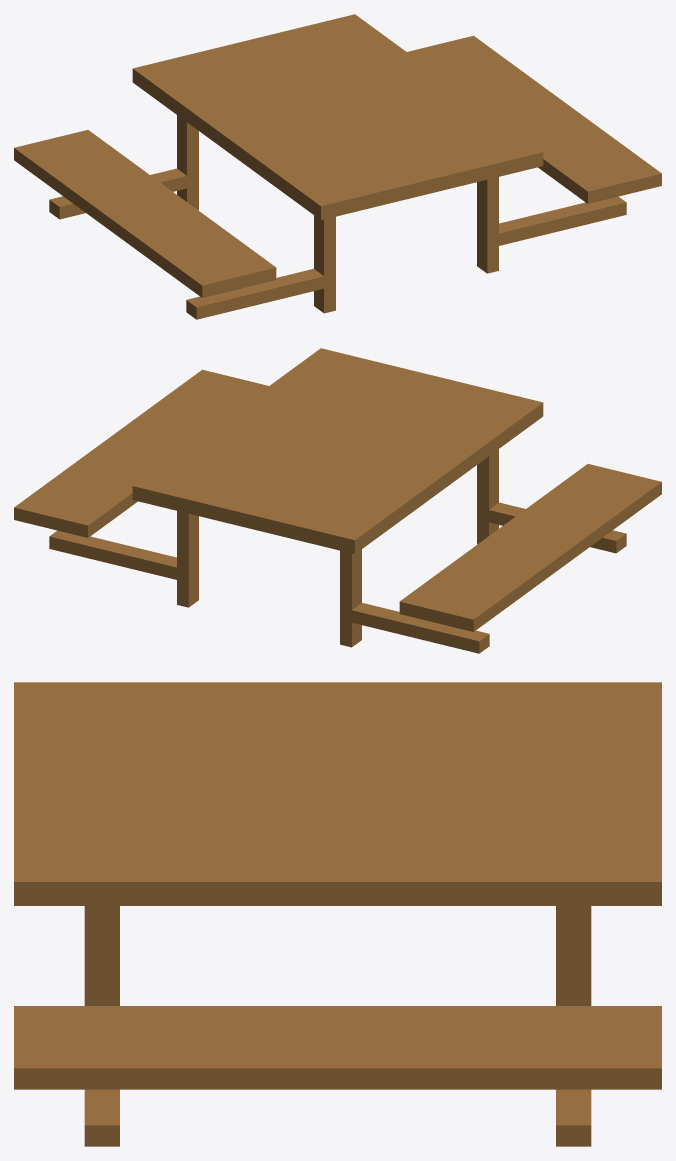
Rendered from PRP_PicnicTable.fbx.
3 views of the same model, one above another, from view 1: azimuth 30°, elevation 25°; view 2: azimuth 150°, elevation 25°; view 3: azimuth 270°, elevation 25° (orthographic). The views are drawn at different scales.
Parts seen in each view (by area): view 1: PRP_PicnicTable__BODY; view 2: PRP_PicnicTable__BODY; view 3: PRP_PicnicTable__BODY.
Boxes of the visible parts, x1,y1,x2,y2 form: PRP_PicnicTable__BODY: (14,14,661,319); PRP_PicnicTable__BODY: (14,348,661,653); PRP_PicnicTable__BODY: (14,682,661,1146).
Size of the model in its own units: 3.1 by 0.825 by 2.2.
